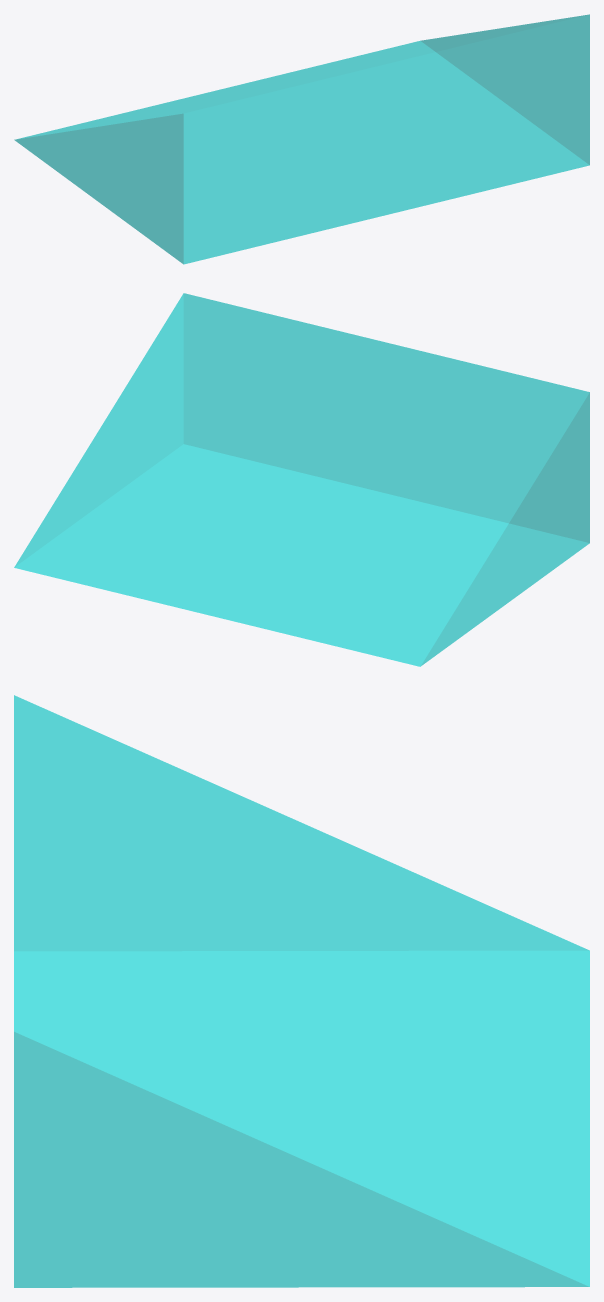
Rendered from SM_Bld_Dock_Wood_Stairs_01_Collision.fbx.
3 views of the same model, one above another, from view 1: azimuth 30°, elevation 25°; view 2: azimuth 150°, elevation 25°; view 3: azimuth 270°, elevation 25° (orthographic). The views are drawn at different scales.
Parts seen in each view (by area): view 1: SM_Bld_Dock_Wood_Stairs_01_Collision; view 2: SM_Bld_Dock_Wood_Stairs_01_Collision; view 3: SM_Bld_Dock_Wood_Stairs_01_Collision.
Part boxes in pixels (left/top/right/bottom): SM_Bld_Dock_Wood_Stairs_01_Collision: left=14, top=14, right=589, bottom=264; SM_Bld_Dock_Wood_Stairs_01_Collision: left=14, top=293, right=589, bottom=666; SM_Bld_Dock_Wood_Stairs_01_Collision: left=14, top=695, right=589, bottom=1287.
Bounding box in the file's own units: 266 × 94.31 × 192.
